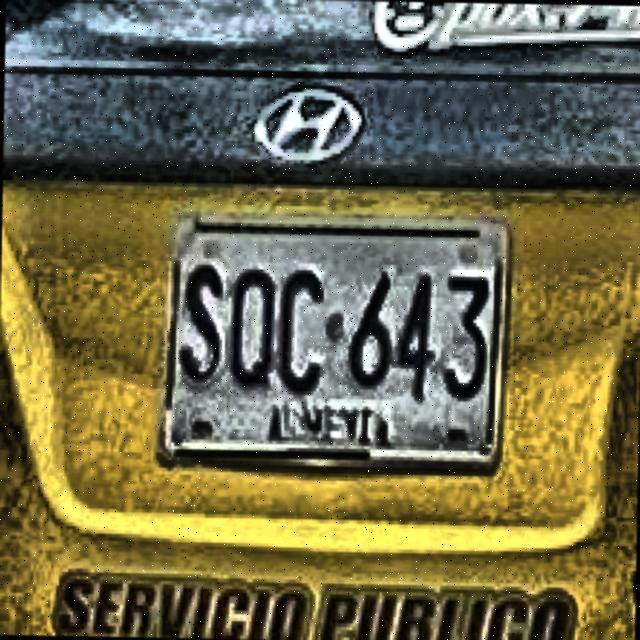3: (439, 274, 488, 401)
4: (393, 273, 438, 402)
6: (347, 271, 396, 395)
C: (275, 267, 330, 398)
Q: (228, 266, 278, 392)
S: (176, 262, 226, 384)
